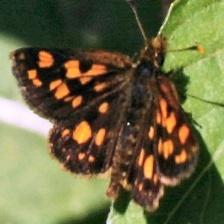butterfly: (12, 1, 200, 212)
